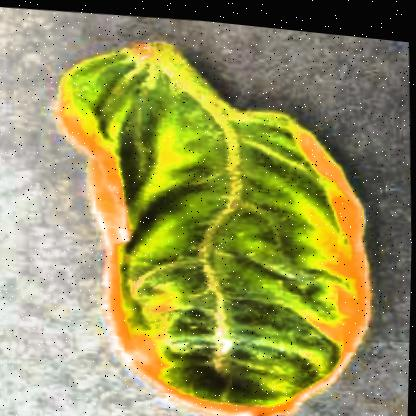Virus: (41, 14, 394, 415)
